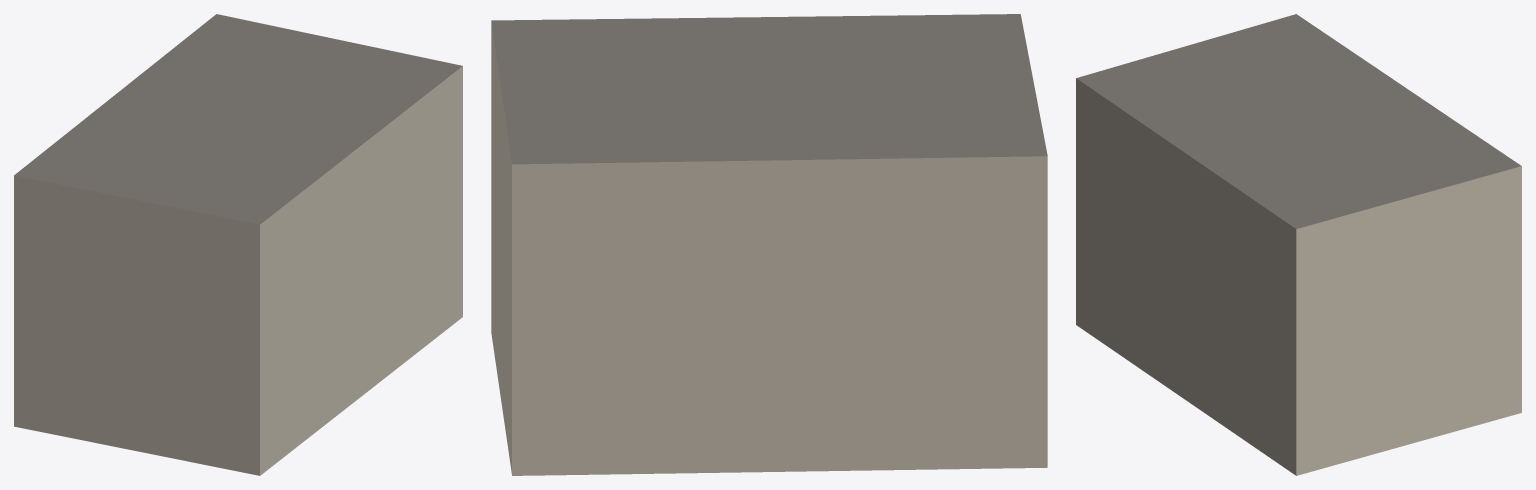
The picture shows the model from 3 angles, left to right: view 1: azimuth 30°, elevation 25°; view 2: azimuth 150°, elevation 25°; view 3: azimuth 270°, elevation 25°; orthographic projection. The views are drawn at different scales.
Parts seen in each view (by area): view 1: HP-w505633406; view 2: HP-w505633406; view 3: HP-w505633406.
Part boxes in pixels (x1=…): HP-w505633406: x1=14, y1=14, x2=462, y2=475; HP-w505633406: x1=491, y1=14, x2=1047, y2=475; HP-w505633406: x1=1076, y1=14, x2=1521, y2=475.
Bounding box in the file's own units: 28.04 × 15 × 24.55.
